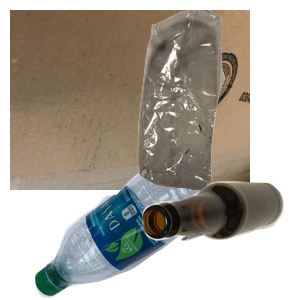cardboard: (10, 10, 250, 190)
glass: (140, 179, 300, 300)
plastic: (32, 154, 242, 300)
trash: (114, 10, 300, 190)
